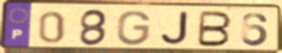0: (37, 10, 69, 44)
6: (241, 12, 270, 47)
8: (78, 8, 108, 48)
B: (196, 10, 234, 48)
G: (115, 9, 152, 47)
J: (160, 11, 190, 46)
